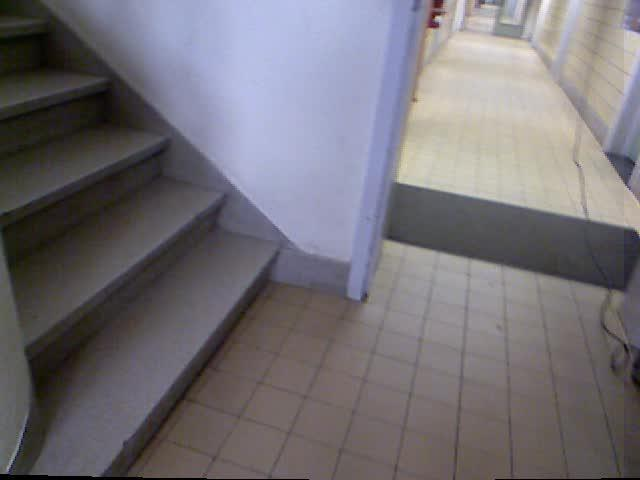Escaleras: (3, 17, 282, 456)
